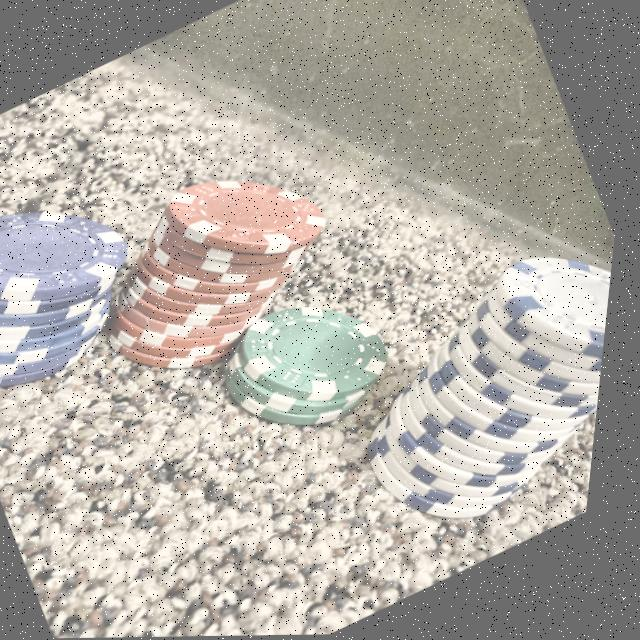Chip: (47, 92, 408, 420), (310, 187, 624, 550), (173, 218, 454, 473), (0, 118, 214, 429)
